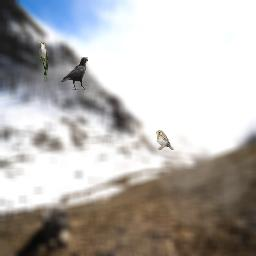Crow: (61, 57, 88, 90)
Cuckoo: (39, 42, 48, 82)
Sparrow: (156, 130, 174, 150)
